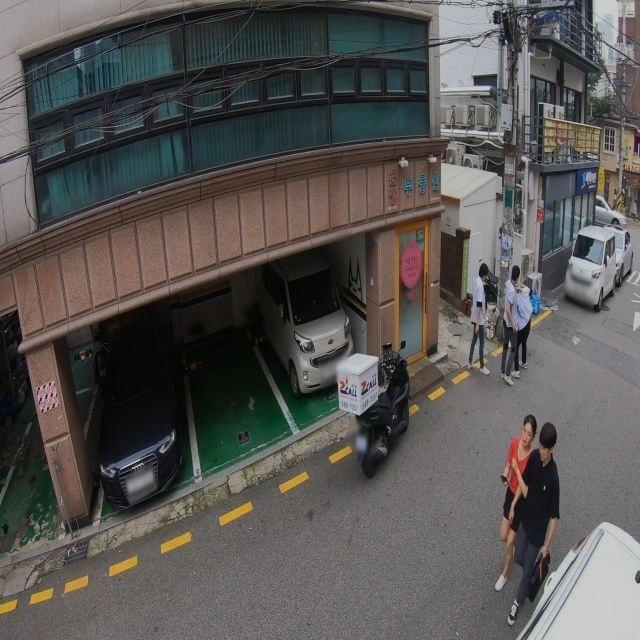fight: (497, 263, 532, 384)
non-fight: (507, 419, 563, 627), (490, 414, 540, 594), (465, 262, 492, 372)
